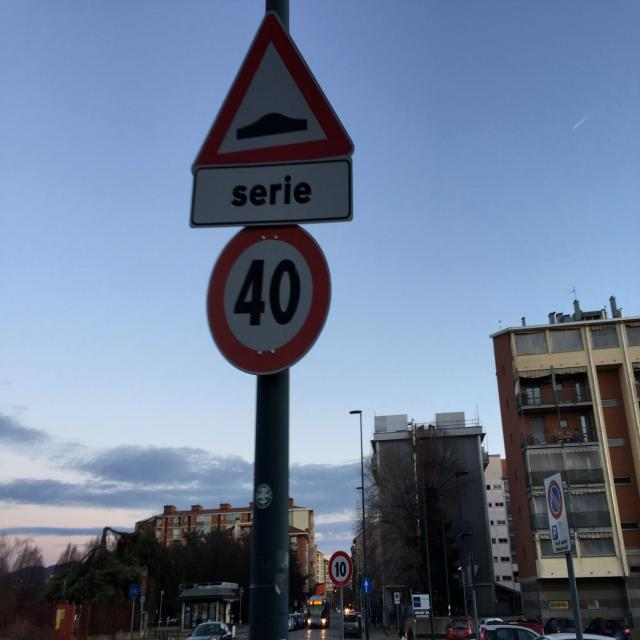car: (543, 616, 632, 640), (472, 622, 550, 640), (583, 616, 632, 640), (183, 621, 234, 640), (444, 616, 474, 640), (342, 612, 363, 639), (292, 612, 304, 628), (287, 615, 295, 631)
